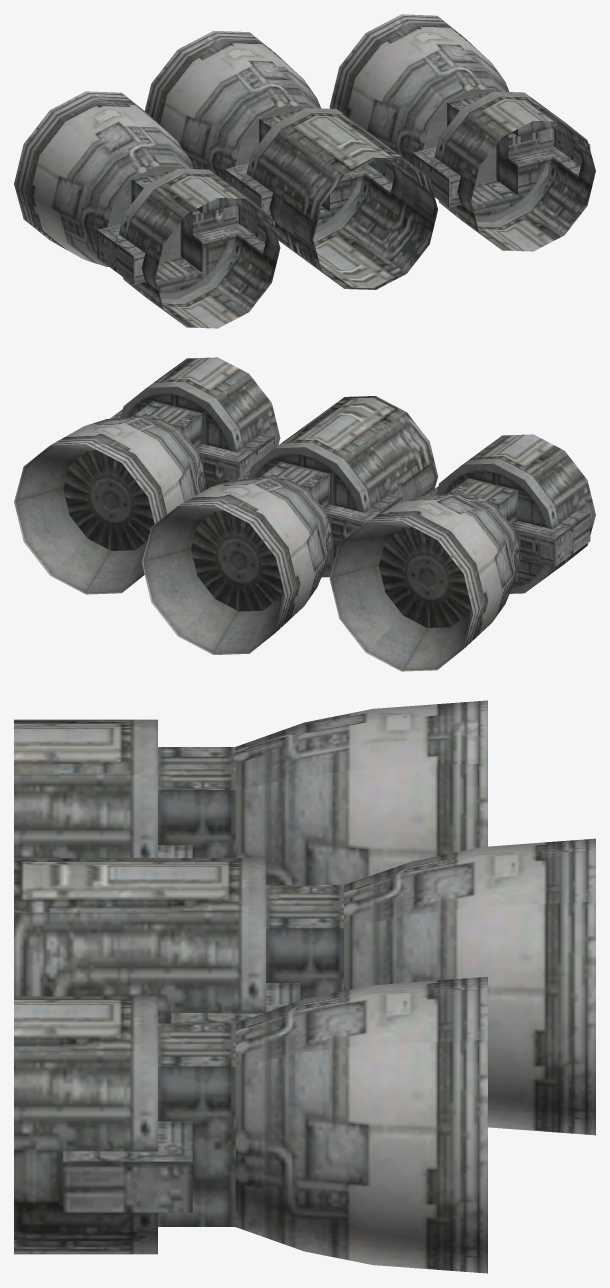
Rendered from ykl37r_engine_s01_l0.fbx.
3 renders of one model, top to bottom at view 1: azimuth 30°, elevation 25°; view 2: azimuth 150°, elevation 25°; view 3: azimuth 270°, elevation 25°, orthographic. The views are drawn at different scales.
Visible parts, largest first — view 1: mesh_node; view 2: mesh_node; view 3: mesh_node.
Boxes of the visible parts, x1,y1,x2,y2 form: mesh_node: (14, 14, 595, 328); mesh_node: (14, 357, 595, 671); mesh_node: (14, 700, 595, 1273).
Bounding box in the file's own units: 10.82 × 3.38 × 6.61.
